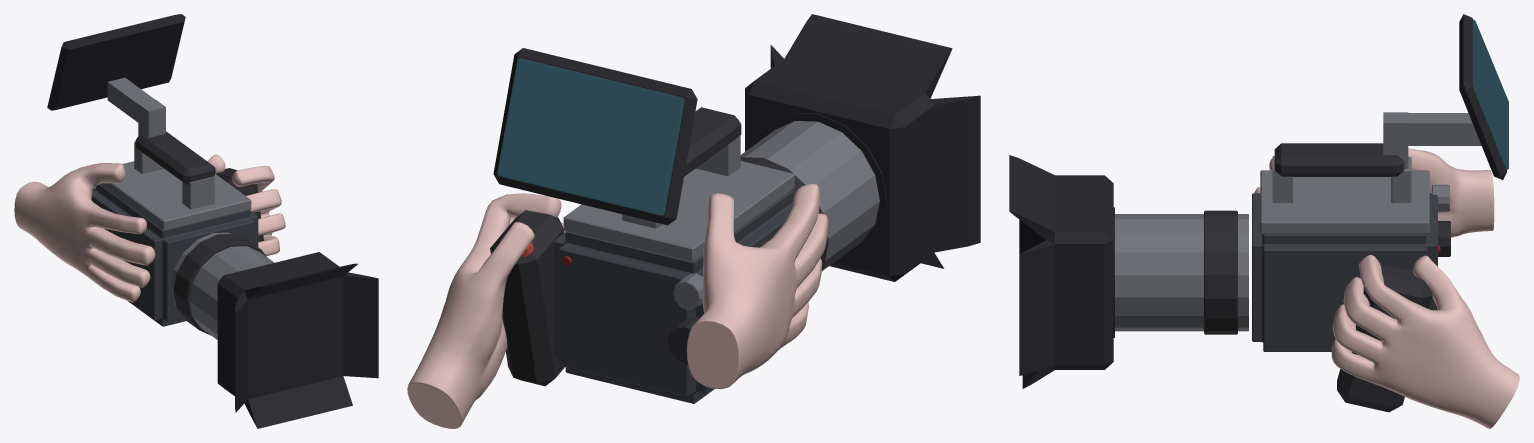
Rendered from rig.glb.
3 views of the same model, side by side, from view 1: azimuth 30°, elevation 25°; view 2: azimuth 150°, elevation 25°; view 3: azimuth 270°, elevation 25° (orthographic). The views are drawn at different scales.
Parts seen in each view (by area): view 1: RIG_mattebox, hand.R, RIG_monitor, RIG_body, RIG_topplate, RIG_lens, hand.L, RIG_handle, RIG_lens_ring, RIG_mon_arm1, RIG_mon_arm0, RIG_handle_postF (+2 smaller); view 2: RIG_mattebox, RIG_Monitor_Screen, RIG_body, hand.R, hand.L, RIG_topplate, RIG_lens, RIG_grip_R, RIG_monitor, RIG_handle, RIG_lens_front, RIG_handle_postF (+3 smaller); view 3: RIG_mattebox, hand.L, RIG_body, RIG_lens, RIG_topplate, RIG_lens_ring, RIG_handle, hand.R, RIG_grip_R, RIG_Monitor_Screen, RIG_monitor, RIG_mon_arm1 (+3 smaller).
Boxes of the visible parts, x1=… form: RIG_mattebox: x1=217, y1=252, x2=378, y2=428; hand.R: x1=14, y1=163, x2=155, y2=302; RIG_monitor: x1=47, y1=14, x2=185, y2=110; RIG_body: x1=91, y1=184, x2=258, y2=326; RIG_topplate: x1=100, y1=161, x2=251, y2=230; RIG_lens: x1=170, y1=232, x2=274, y2=339; hand.L: x1=207, y1=154, x2=285, y2=256; RIG_handle: x1=135, y1=131, x2=215, y2=184; RIG_lens_ring: x1=173, y1=233, x2=266, y2=335; RIG_mon_arm1: x1=107, y1=77, x2=154, y2=122; RIG_mon_arm0: x1=138, y1=99, x2=165, y2=137; RIG_handle_postF: x1=182, y1=176, x2=214, y2=209; RIG_mattebox: x1=745, y1=14, x2=980, y2=281; RIG_Monitor_Screen: x1=497, y1=58, x2=684, y2=215; RIG_body: x1=553, y1=190, x2=793, y2=403; hand.R: x1=686, y1=184, x2=828, y2=389; hand.L: x1=407, y1=193, x2=565, y2=428; RIG_topplate: x1=563, y1=161, x2=794, y2=262; RIG_lens: x1=740, y1=121, x2=879, y2=270; RIG_grip_R: x1=490, y1=210, x2=564, y2=386; RIG_monitor: x1=493, y1=48, x2=697, y2=225; RIG_handle: x1=684, y1=107, x2=741, y2=176; RIG_lens_front: x1=755, y1=113, x2=887, y2=258; RIG_handle_postF: x1=696, y1=135, x2=740, y2=176; RIG_mattebox: x1=1009, y1=155, x2=1113, y2=388; hand.L: x1=1331, y1=254, x2=1519, y2=428; RIG_body: x1=1252, y1=193, x2=1437, y2=351; RIG_lens: x1=1115, y1=214, x2=1248, y2=331; RIG_topplate: x1=1260, y1=170, x2=1429, y2=233; RIG_lens_ring: x1=1204, y1=210, x2=1237, y2=334; RIG_handle: x1=1274, y1=143, x2=1404, y2=176; hand.R: x1=1254, y1=148, x2=1494, y2=237; RIG_grip_R: x1=1337, y1=264, x2=1432, y2=412; RIG_Monitor_Screen: x1=1472, y1=19, x2=1508, y2=169; RIG_monitor: x1=1459, y1=14, x2=1506, y2=179; RIG_mon_arm1: x1=1399, y1=113, x2=1481, y2=145.
Size of the model in its own units: 0.2714 by 0.3111 by 0.4525.
